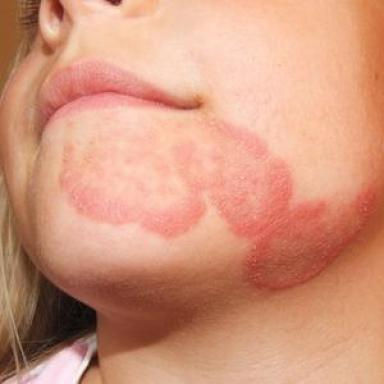Tinea-Corporis: (61, 121, 374, 286)
